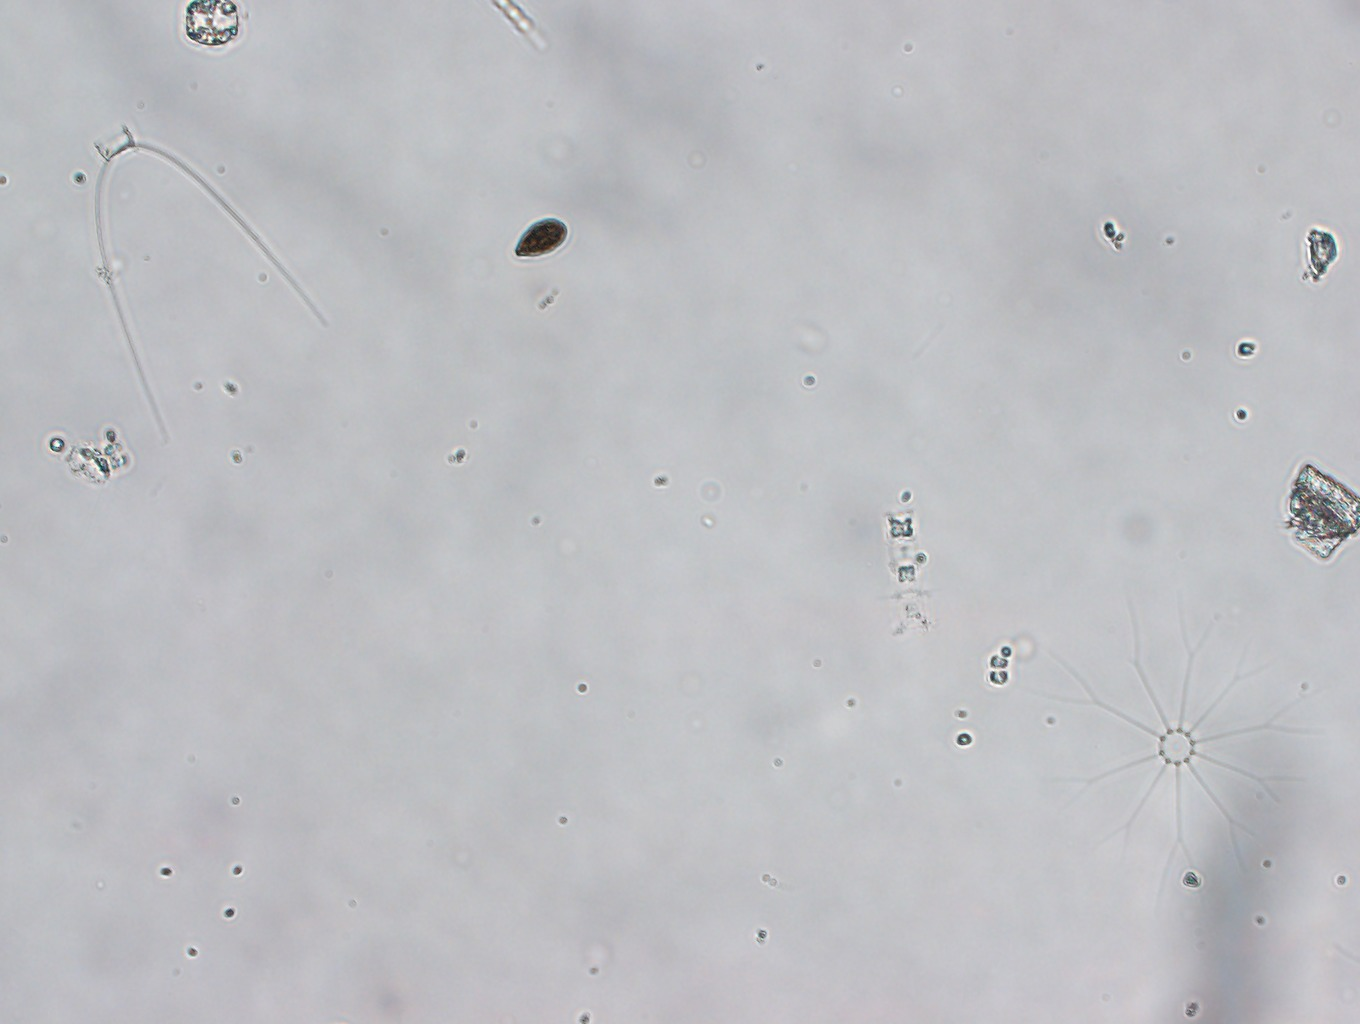bacteriastrum: (1028, 591, 1327, 897)
chaetoceros: (68, 112, 331, 455)
